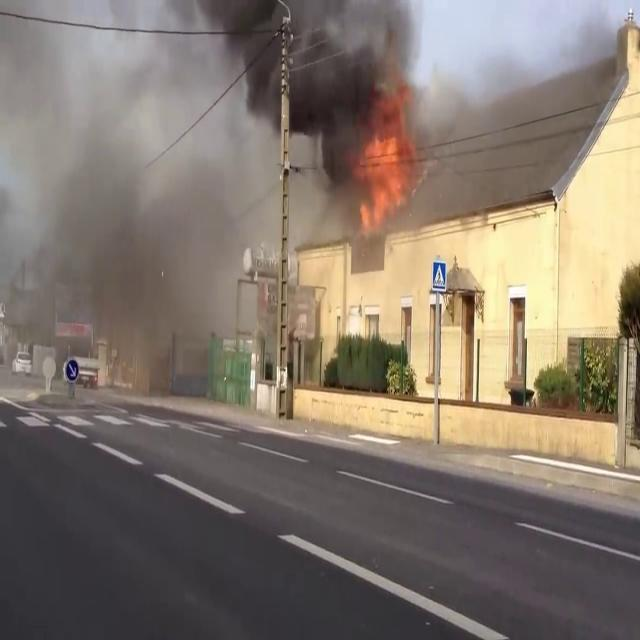Fire: (346, 119, 420, 234)
Smoke: (0, 0, 278, 367), (226, 0, 440, 191)
